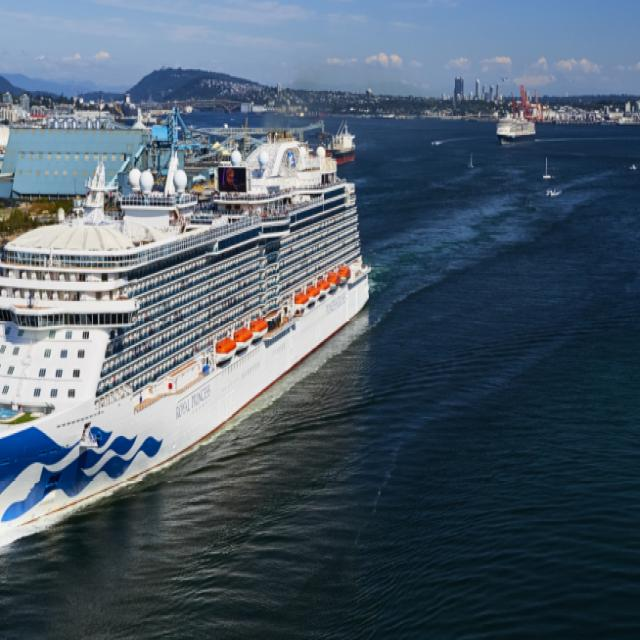cruises: (1, 99, 386, 550), (491, 98, 540, 152)
